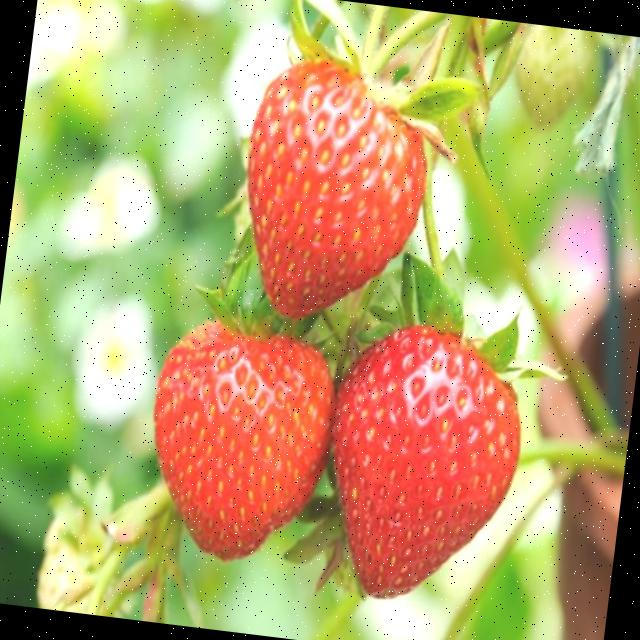strawberry: (331, 325, 520, 597), (246, 59, 425, 317), (153, 320, 334, 560)
